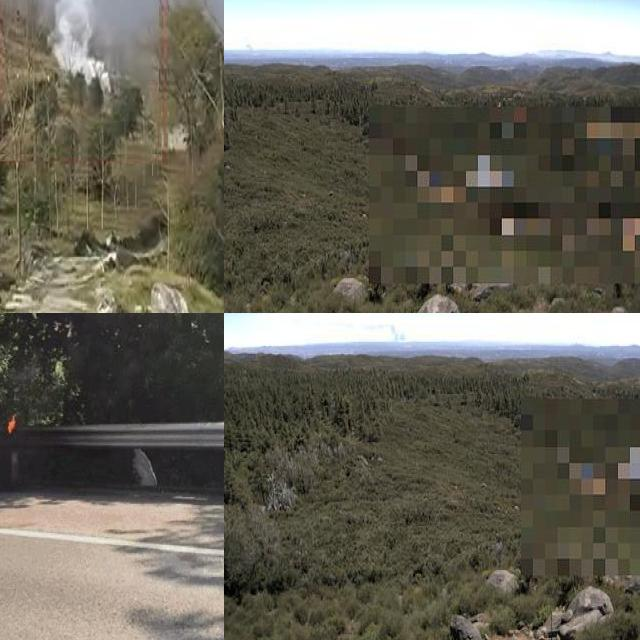smoke: (43, 0, 109, 91), (363, 318, 411, 343), (241, 35, 261, 62)
